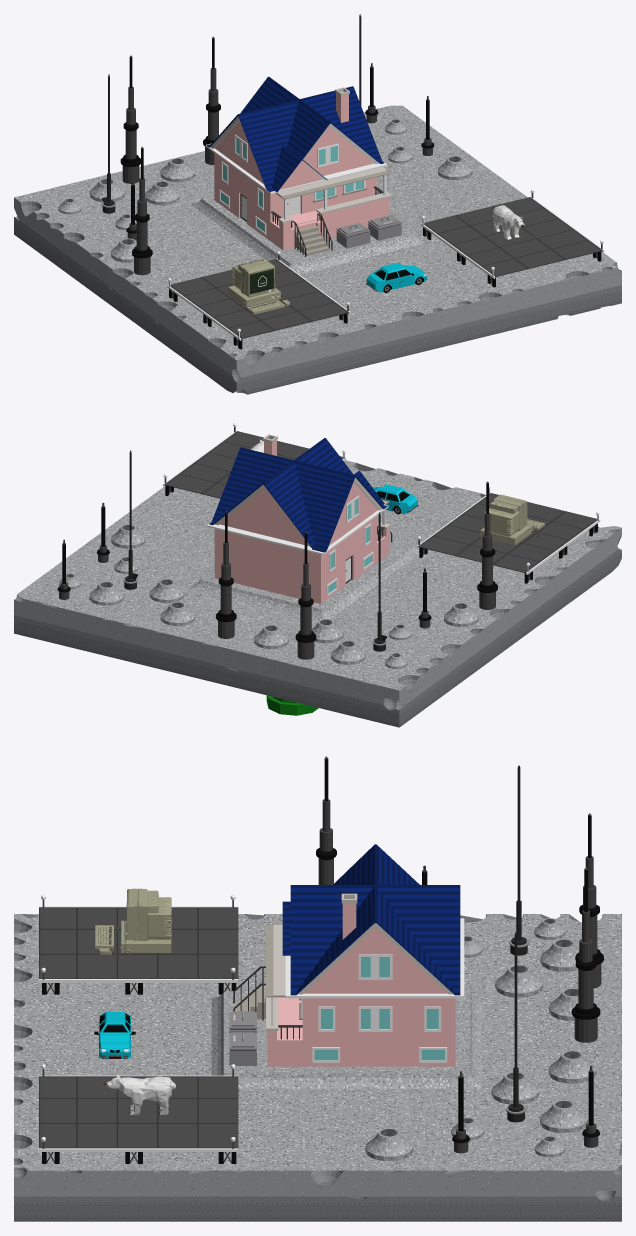
The picture shows the model from 3 angles, top to bottom: view 1: azimuth 30°, elevation 25°; view 2: azimuth 150°, elevation 25°; view 3: azimuth 270°, elevation 25°; orthographic projection. The views are drawn at different scales.
Visible parts, largest first — view 1: Cube.027, Cube.313, Cube.026, Cube.025, Cube.028, OBJRANDOM_RETRO_PC, Cylinder.020, Cylinder.021, VEHICLES_CAR, Cylinder.017, ANIMAL_OSO_POLAR, Cube.029 (+5 smaller); view 2: Cube.027, Cube.313, Cube.025, Cube.028, Cube.026, OBJRANDOM_RETRO_PC, Cylinder.020, Cylinder.021, Cylinder.017, VEHICLES_CAR, Cylinder.031, Cylinder.028 (+9 smaller); view 3: Cube.027, Cube.313, Cube.026, Cube.025, Cube.028, OBJRANDOM_RETRO_PC, Cylinder.017, ANIMAL_OSO_POLAR, VEHICLES_CAR, Cylinder.020, Cylinder.021, Cylinder.033 (+11 smaller).
Boxes of the visible parts, x1,y1,x2,y2 form: Cube.027: (14,105,621,394); Cube.313: (205,76,392,256); Cube.026: (421,189,604,287); Cube.025: (167,251,350,349); Cube.028: (191,195,424,274); OBJRANDOM_RETRO_PC: (228,259,289,314); Cylinder.020: (120,55,140,183); Cylinder.021: (132,146,152,275); VEHICLES_CAR: (366,263,427,292); Cylinder.017: (203,36,220,164); ANIMAL_OSO_POLAR: (493,205,524,240); Cube.029: (336,222,370,248); Cube.027: (14,460,621,727); Cube.313: (206,434,392,603); Cube.025: (417,485,600,583); Cube.028: (190,538,419,620); Cube.026: (163,423,346,498); OBJRANDOM_RETRO_PC: (480,494,544,545); Cylinder.020: (295,531,316,659); Cylinder.021: (477,481,497,609); Cylinder.017: (216,510,236,638); VEHICLES_CAR: (372,484,418,514); Cylinder.031: (89,581,124,605); Cylinder.028: (331,640,365,664); Cube.027: (14,914,621,1221); Cube.313: (233,844,464,1066); Cube.026: (39,1064,238,1163); Cube.025: (39,895,238,994); Cube.028: (211,991,481,1088); OBJRANDOM_RETRO_PC: (95,888,171,958); Cylinder.017: (571,867,600,1042); ANIMAL_OSO_POLAR: (103,1074,175,1114); VEHICLES_CAR: (94,1012,135,1058); Cylinder.020: (575,813,603,988); Cylinder.021: (316,756,336,884); Cylinder.033: (365,1128,413,1160).
Bounding box in the file's own units: 4000 × 2383 × 4000.
Materials: 37 (4 with a texture image).
